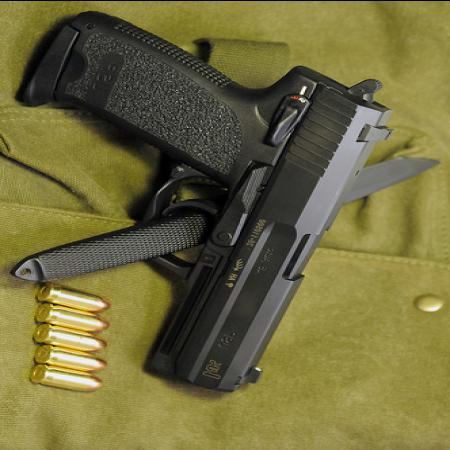Pistol: (16, 10, 397, 394)
